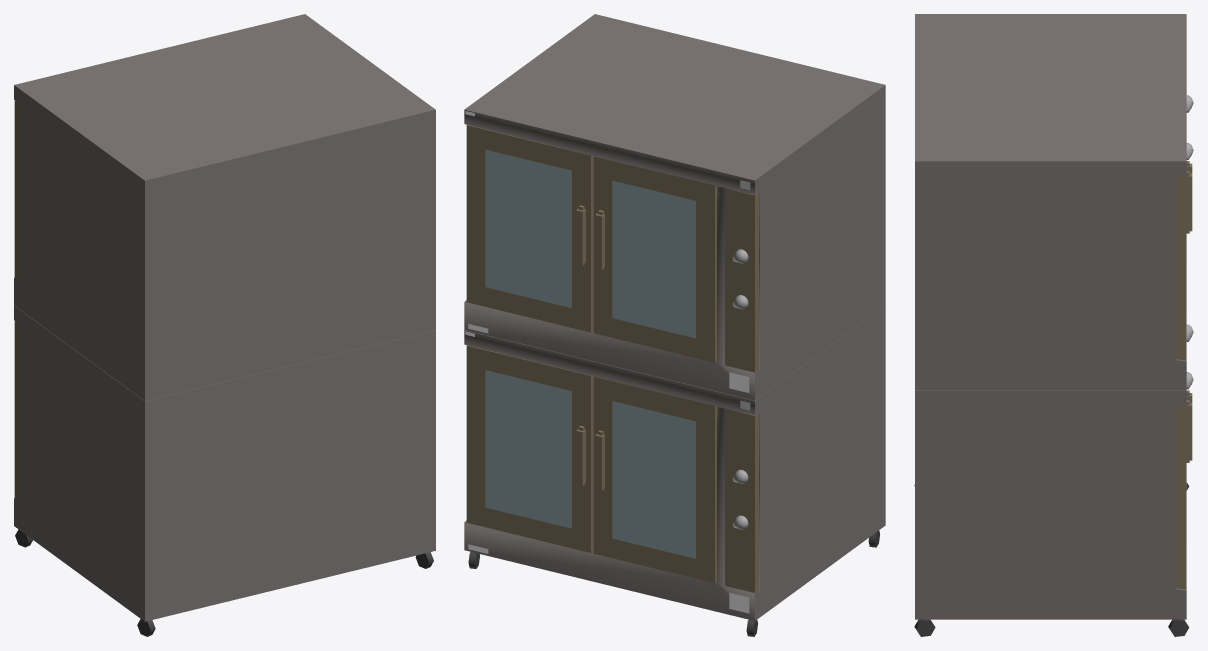
The model's file is SM_Oven_01.FBX.
3 renders of one model, left to right at view 1: azimuth 30°, elevation 25°; view 2: azimuth 150°, elevation 25°; view 3: azimuth 270°, elevation 25°, orthographic. The views are drawn at different scales.
Parts seen in each view (by area): view 1: SM_Oven_01; view 2: SM_Oven_01; view 3: SM_Oven_01.
Part boxes in pixels (left/top/right/bottom): SM_Oven_01: left=14, top=14, right=435, bottom=636; SM_Oven_01: left=464, top=14, right=885, bottom=636; SM_Oven_01: left=914, top=14, right=1193, bottom=636.
Size of the model in its own units: 165 by 132 by 248.
